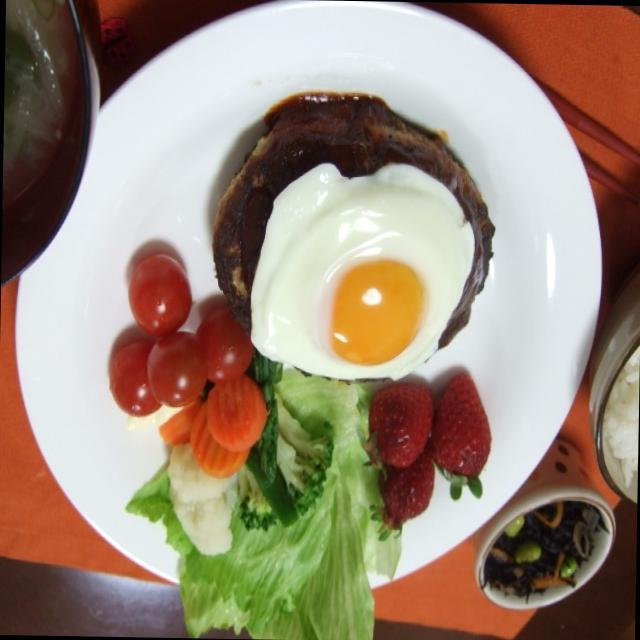Egg: (256, 161, 474, 387)
Green Salad: (170, 408, 390, 638)
Strawberry: (365, 379, 495, 530)
